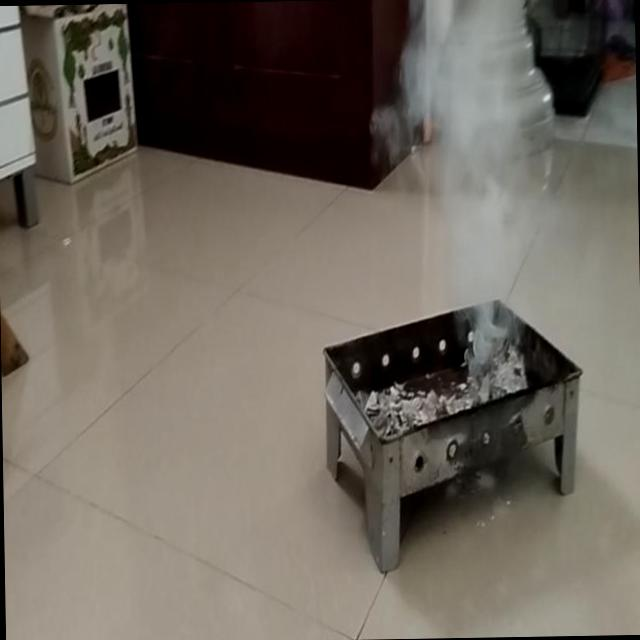smoke: (372, 0, 563, 405)
